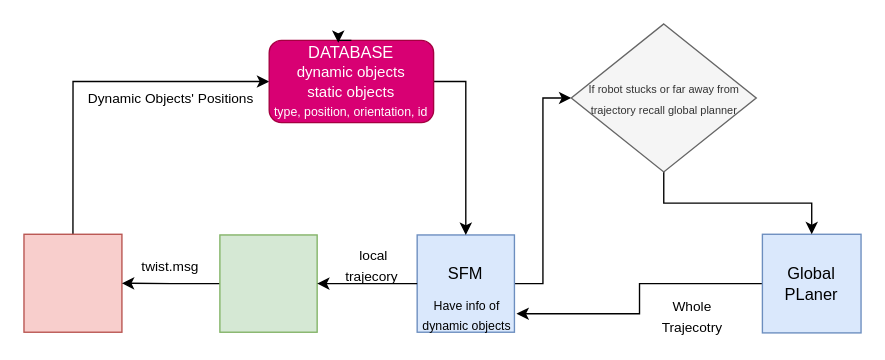
Some shapes in this 885 by 360 pixel diagram are drawn without their labels. Here are the shapes that lost their labels. From the top down, the centre of each, then its label:
At pixel 72 282: "Unity - Low Level Controller".
At pixel 268 283: "Stanley Controller".
